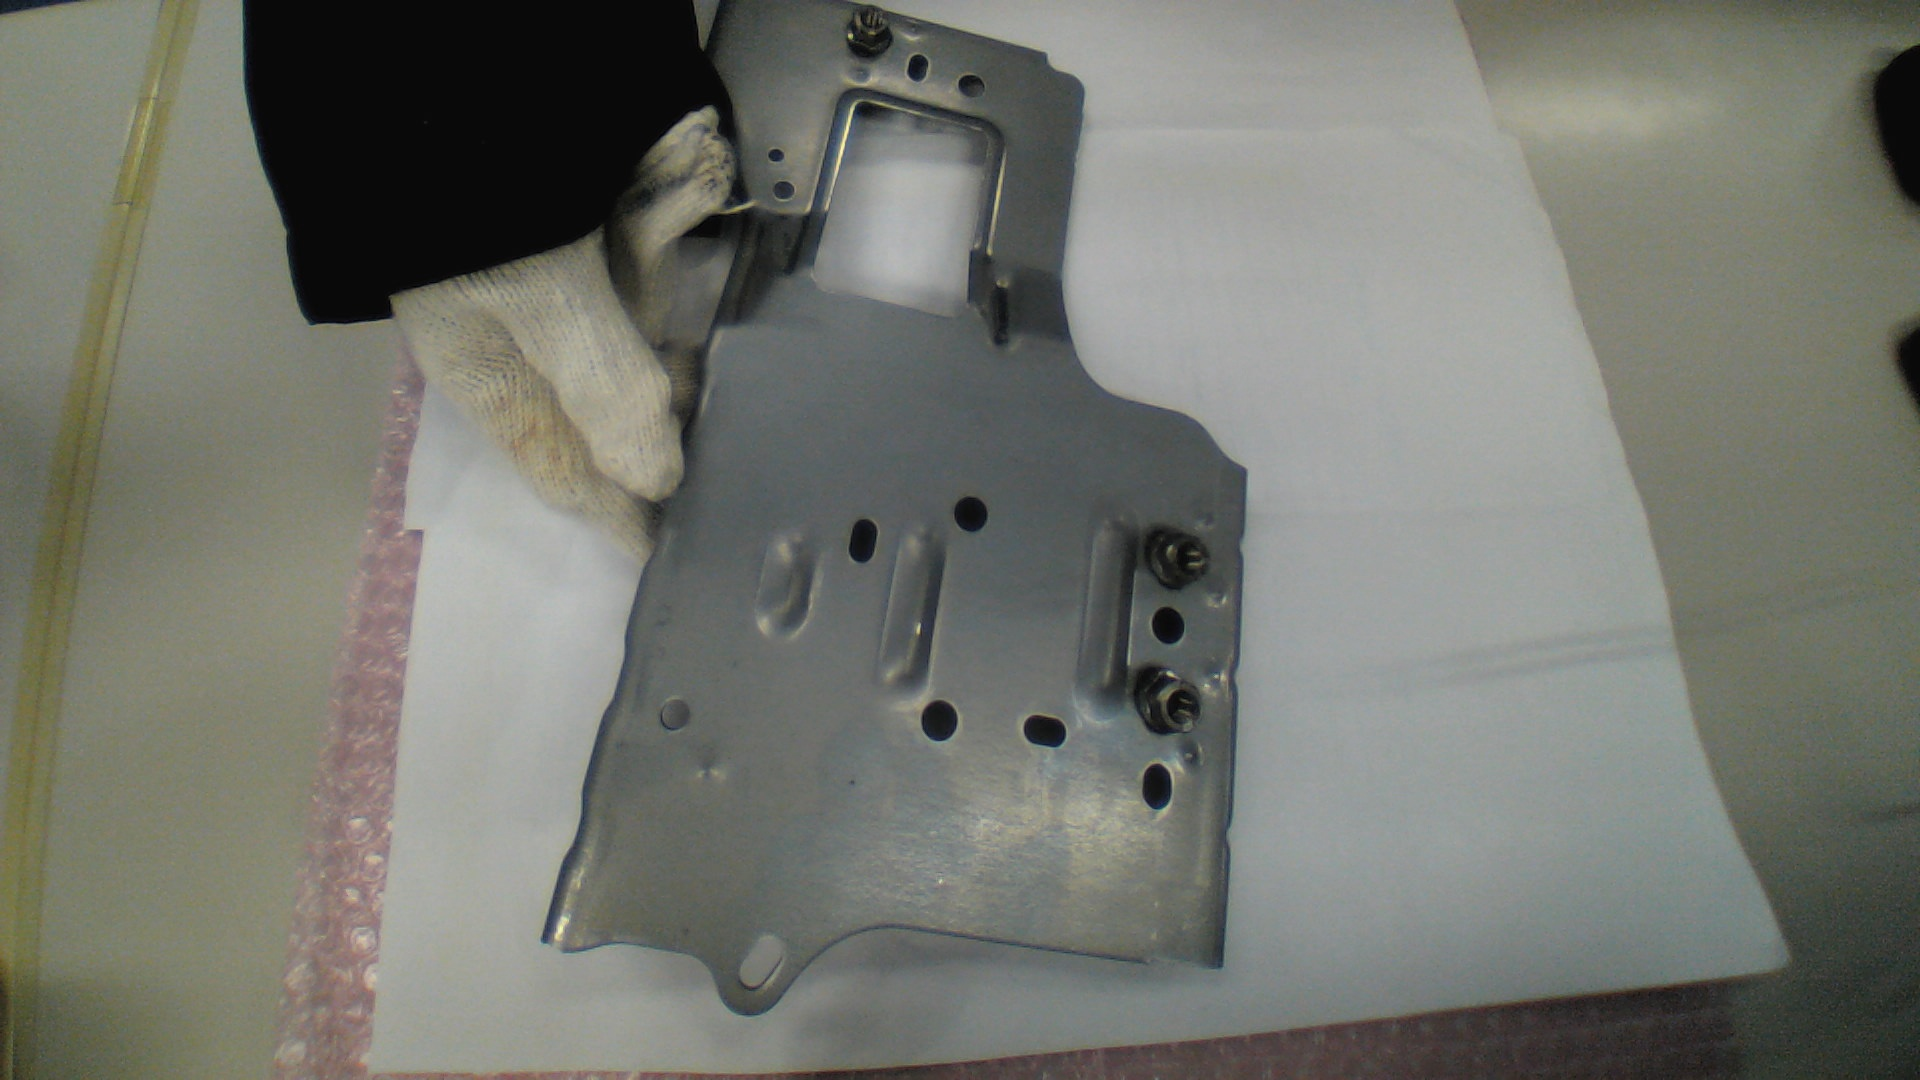dog: (1131, 665, 1204, 735), (1146, 525, 1215, 591), (844, 5, 894, 55)
